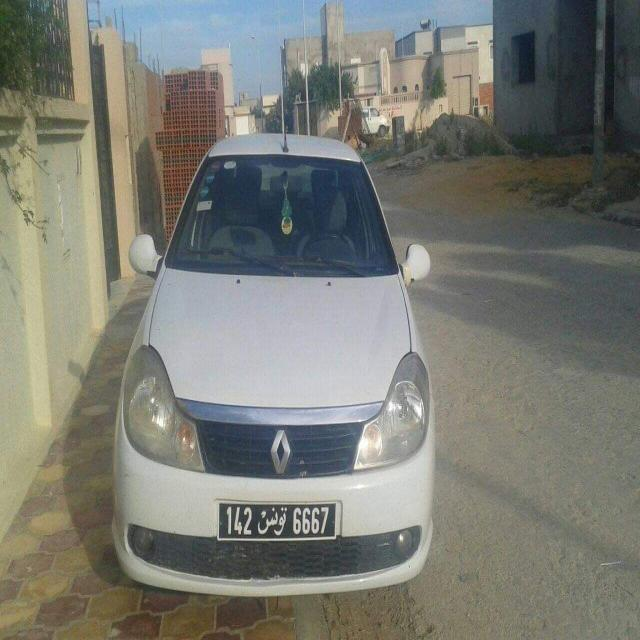LP: (216, 498, 339, 542)
